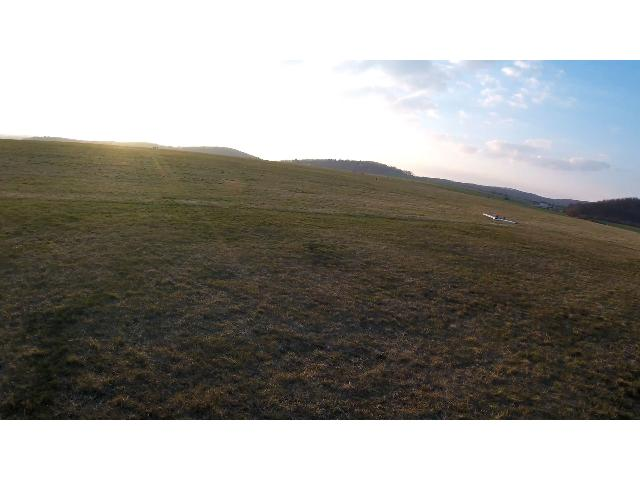Anti-Drone: (484, 214, 520, 224)
